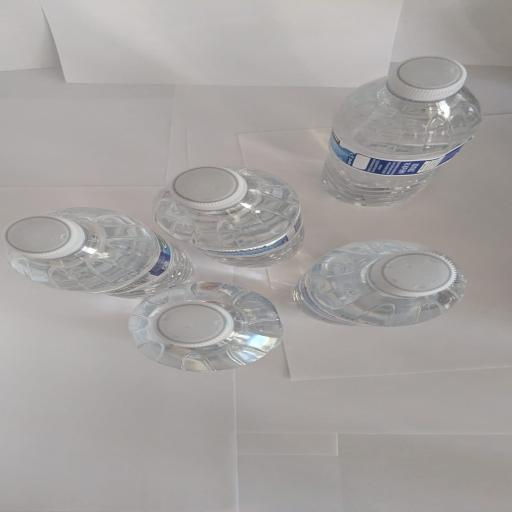waterbottle: (323, 57, 480, 205), (5, 208, 193, 297), (294, 240, 465, 326), (154, 168, 303, 266), (129, 282, 283, 371)
